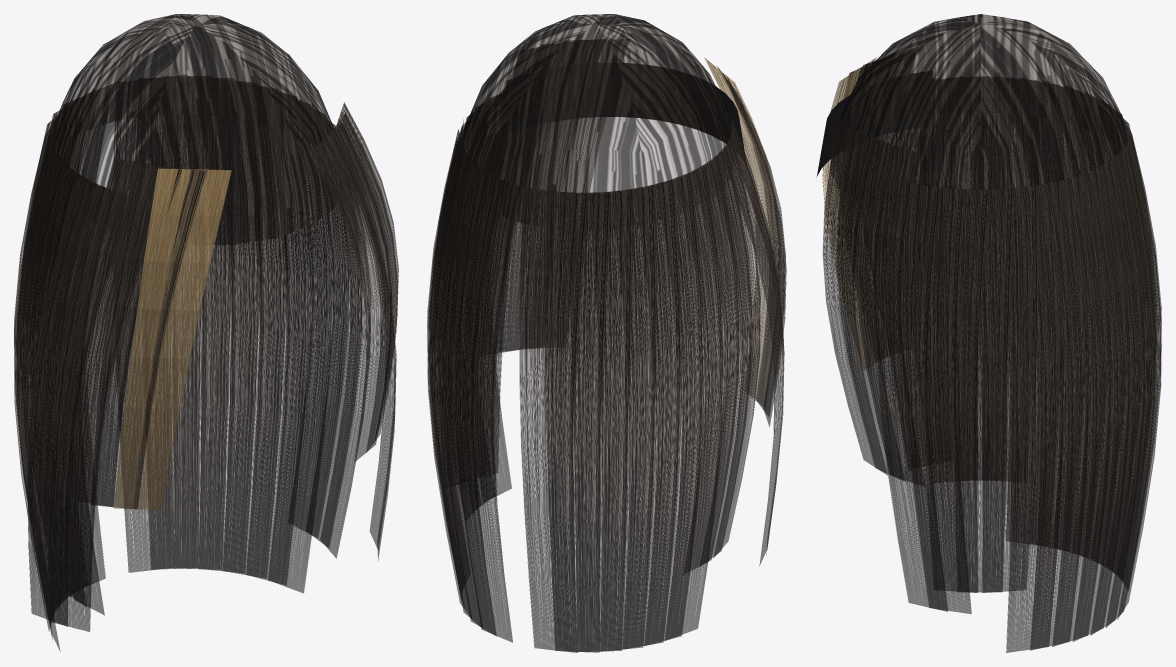
The model's file is megami-hair-angel-straight.glb.
The picture shows the model from 3 angles, left to right: view 1: azimuth 30°, elevation 25°; view 2: azimuth 150°, elevation 25°; view 3: azimuth 270°, elevation 25°; orthographic projection. The views are drawn at different scales.
Parts seen in each view (by area): view 1: AngelHairStraight, AngelHairScalpCap; view 2: AngelHairStraight, AngelHairScalpCap, AngelHeadband; view 3: AngelHairStraight, AngelHairScalpCap, AngelHeadband.
Part boxes in pixels (left/top/right/bottom): AngelHairStraight: left=14, top=75, right=398, bottom=651; AngelHairScalpCap: left=52, top=14, right=342, bottom=244; AngelHairStraight: left=427, top=39, right=786, bottom=652; AngelHairScalpCap: left=462, top=14, right=730, bottom=225; AngelHeadband: left=501, top=62, right=746, bottom=160; AngelHairStraight: left=822, top=48, right=1161, bottom=652; AngelHairScalpCap: left=830, top=14, right=1127, bottom=200; AngelHeadband: left=817, top=71, right=932, bottom=176.
Bounding box in the file's own units: 0.2625 × 0.4261 × 0.2336.
3 materials, 2 textured.
